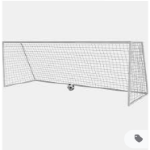goals: (1, 38, 150, 107)
